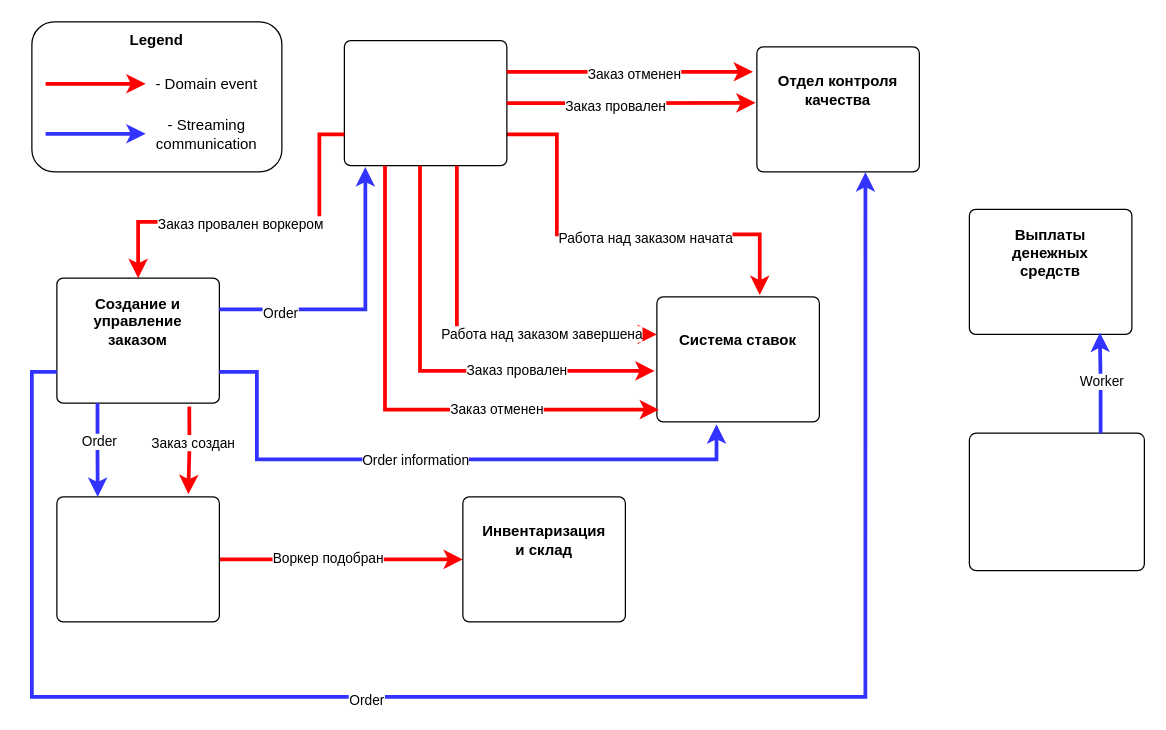
Some shapes in this 1166 by 730 pixel diagram are drawn without their labels. The box of each missing label's shape, as (x1, y1, x2, y2) in pixels:
Жизненный цикл заказа: (343, 39, 507, 166)
Регистрация и тестирование воркера: (968, 432, 1144, 571)
Система мэтчинга: (56, 496, 219, 622)
